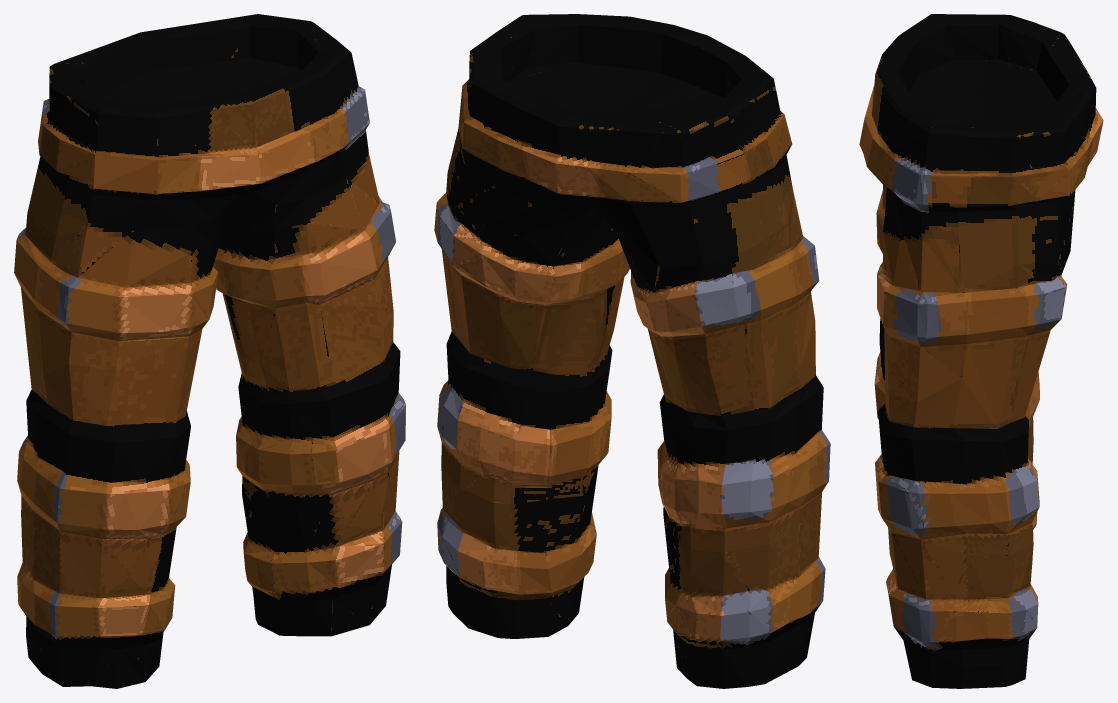
3 renders of one model, left to right at view 1: azimuth 30°, elevation 25°; view 2: azimuth 150°, elevation 25°; view 3: azimuth 270°, elevation 25°, orthographic. The views are drawn at different scales.
Visible parts, largest first — view 1: OBJ023; view 2: OBJ023; view 3: OBJ023.
Part boxes in pixels (x1,y1,x2,y2): OBJ023: (14,14,405,688); OBJ023: (434,14,830,688); OBJ023: (859,14,1103,688).
Size of the model in its own units: 0.247 by 0.3887 by 0.1545.
Materials: 1 (1 with a texture image).
